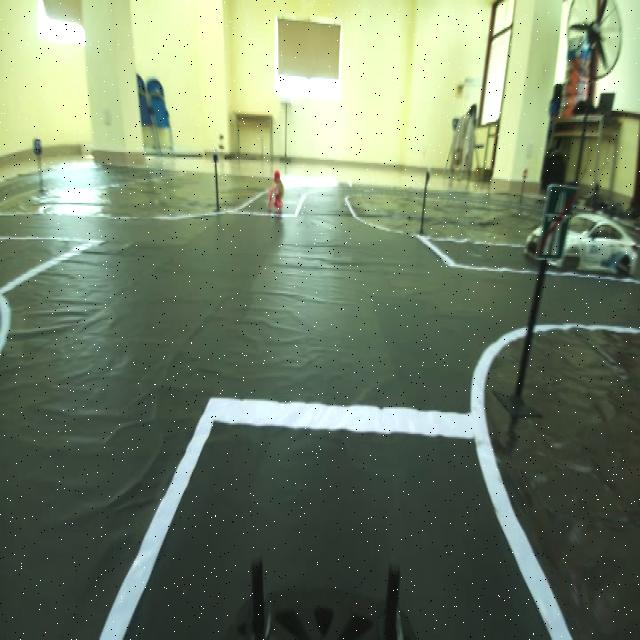highway_exit: (535, 176, 581, 268)
